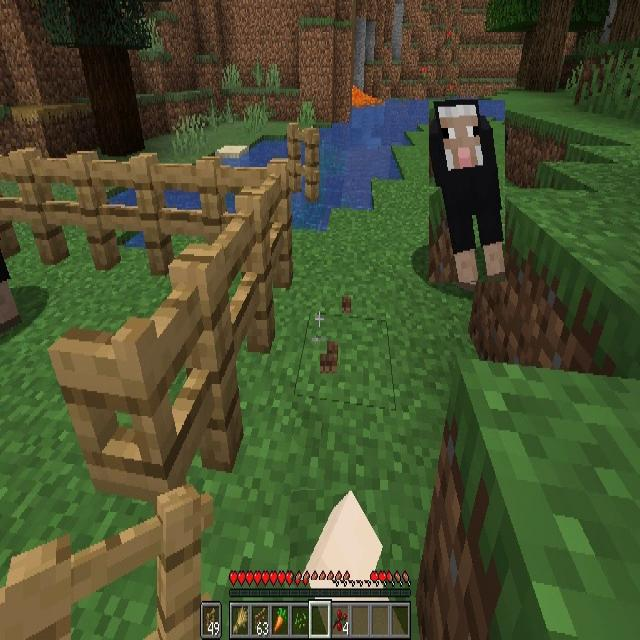duck: (290, 490, 390, 580)
sheep: (430, 100, 506, 282)
